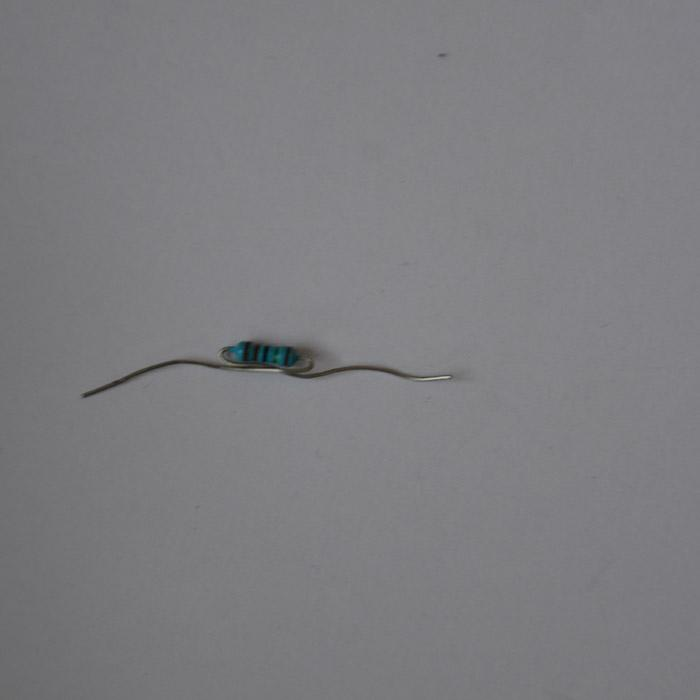resistor: (233, 338, 300, 371)
